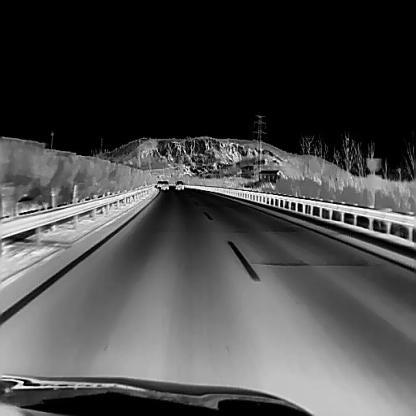car: (174, 180, 183, 189), (161, 179, 169, 189), (156, 180, 161, 186)
